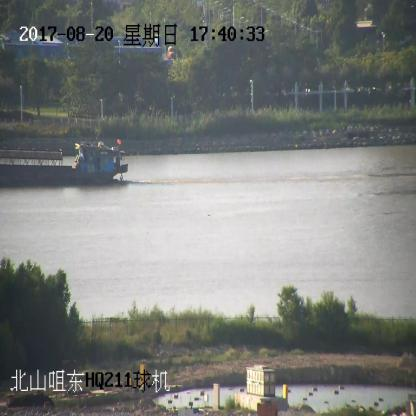Fishing Boat: (0, 138, 129, 186)
